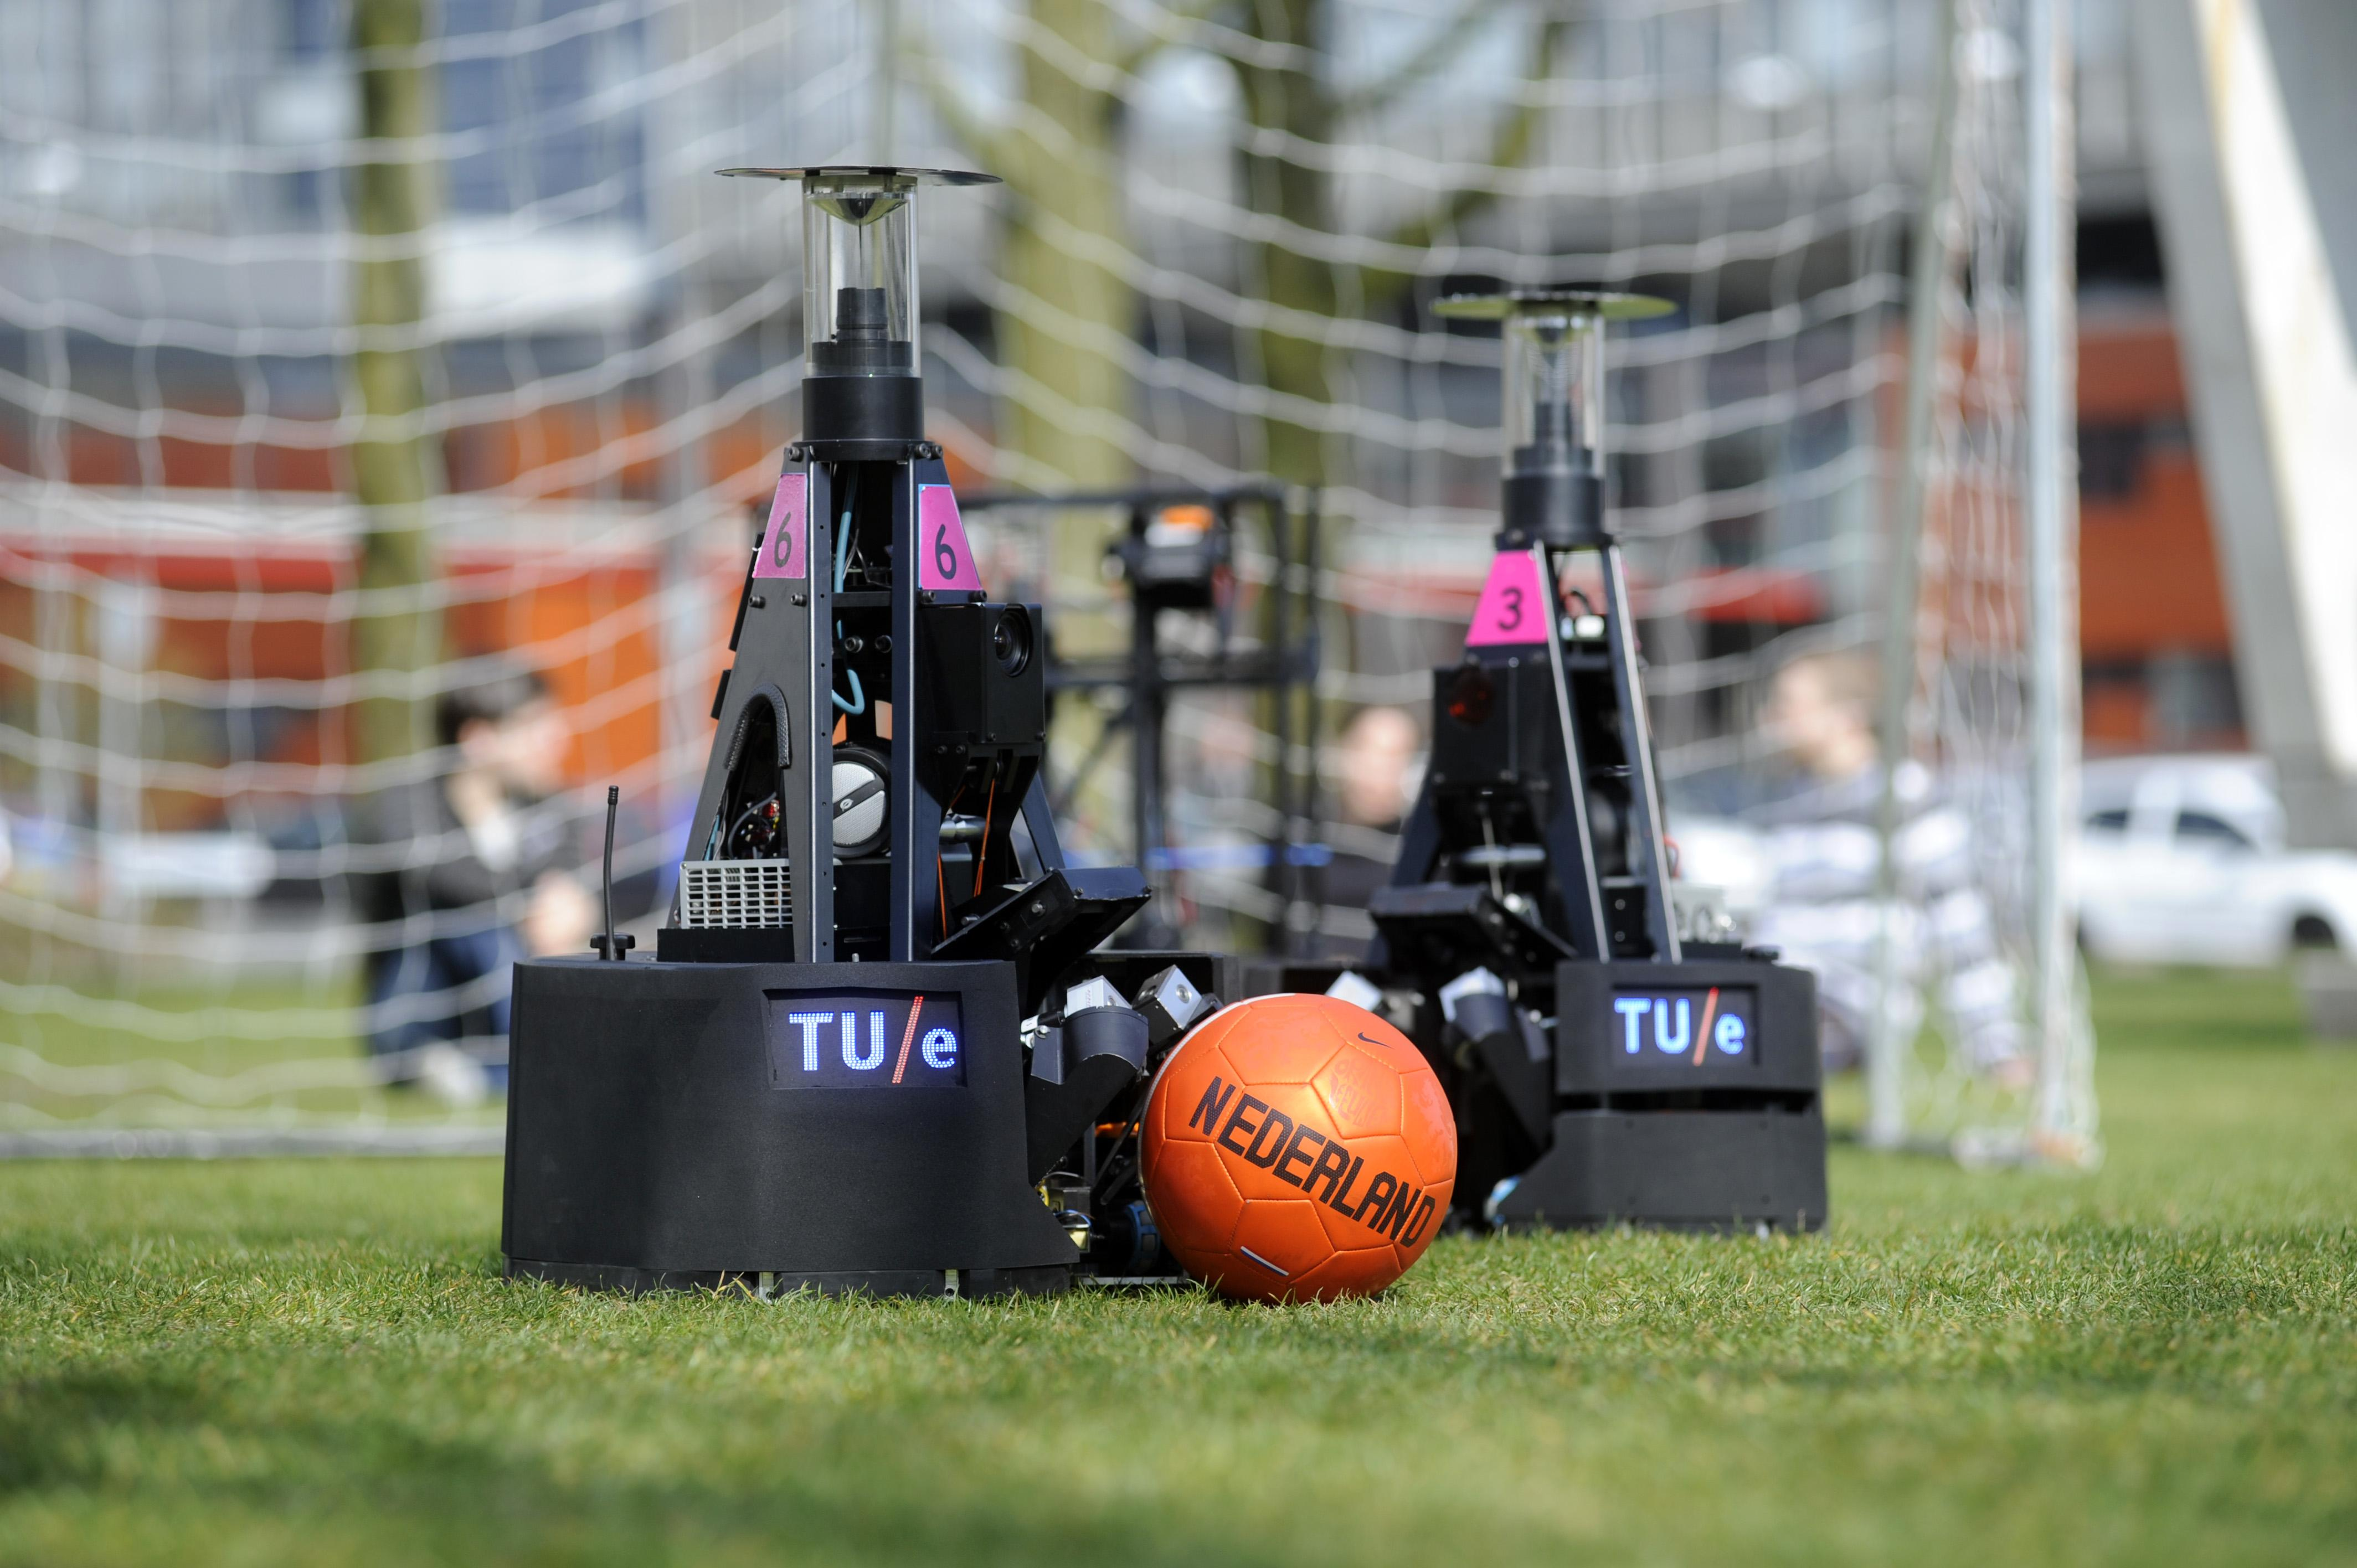robot: (471, 128, 1333, 1302), (1213, 257, 1862, 1256)
